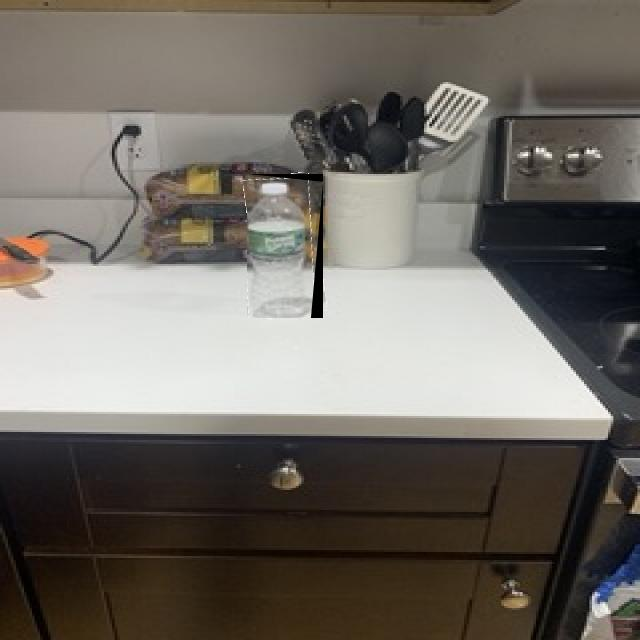water_bottle: (247, 174, 323, 318)
